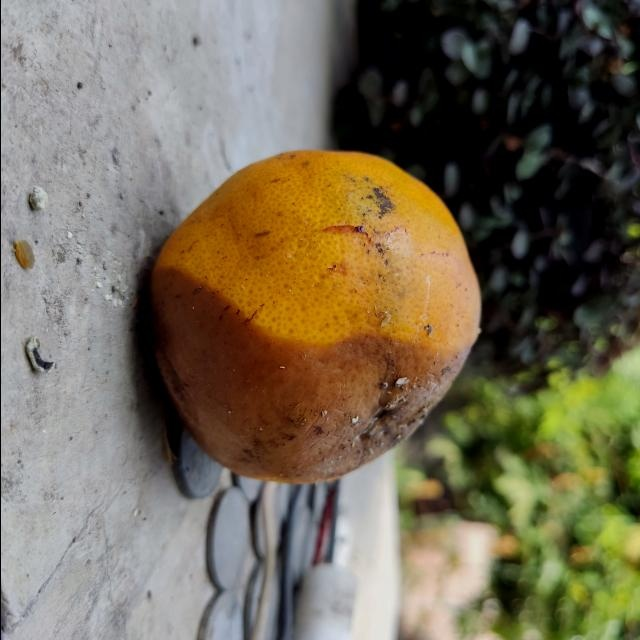agrume: (140, 147, 481, 485)
